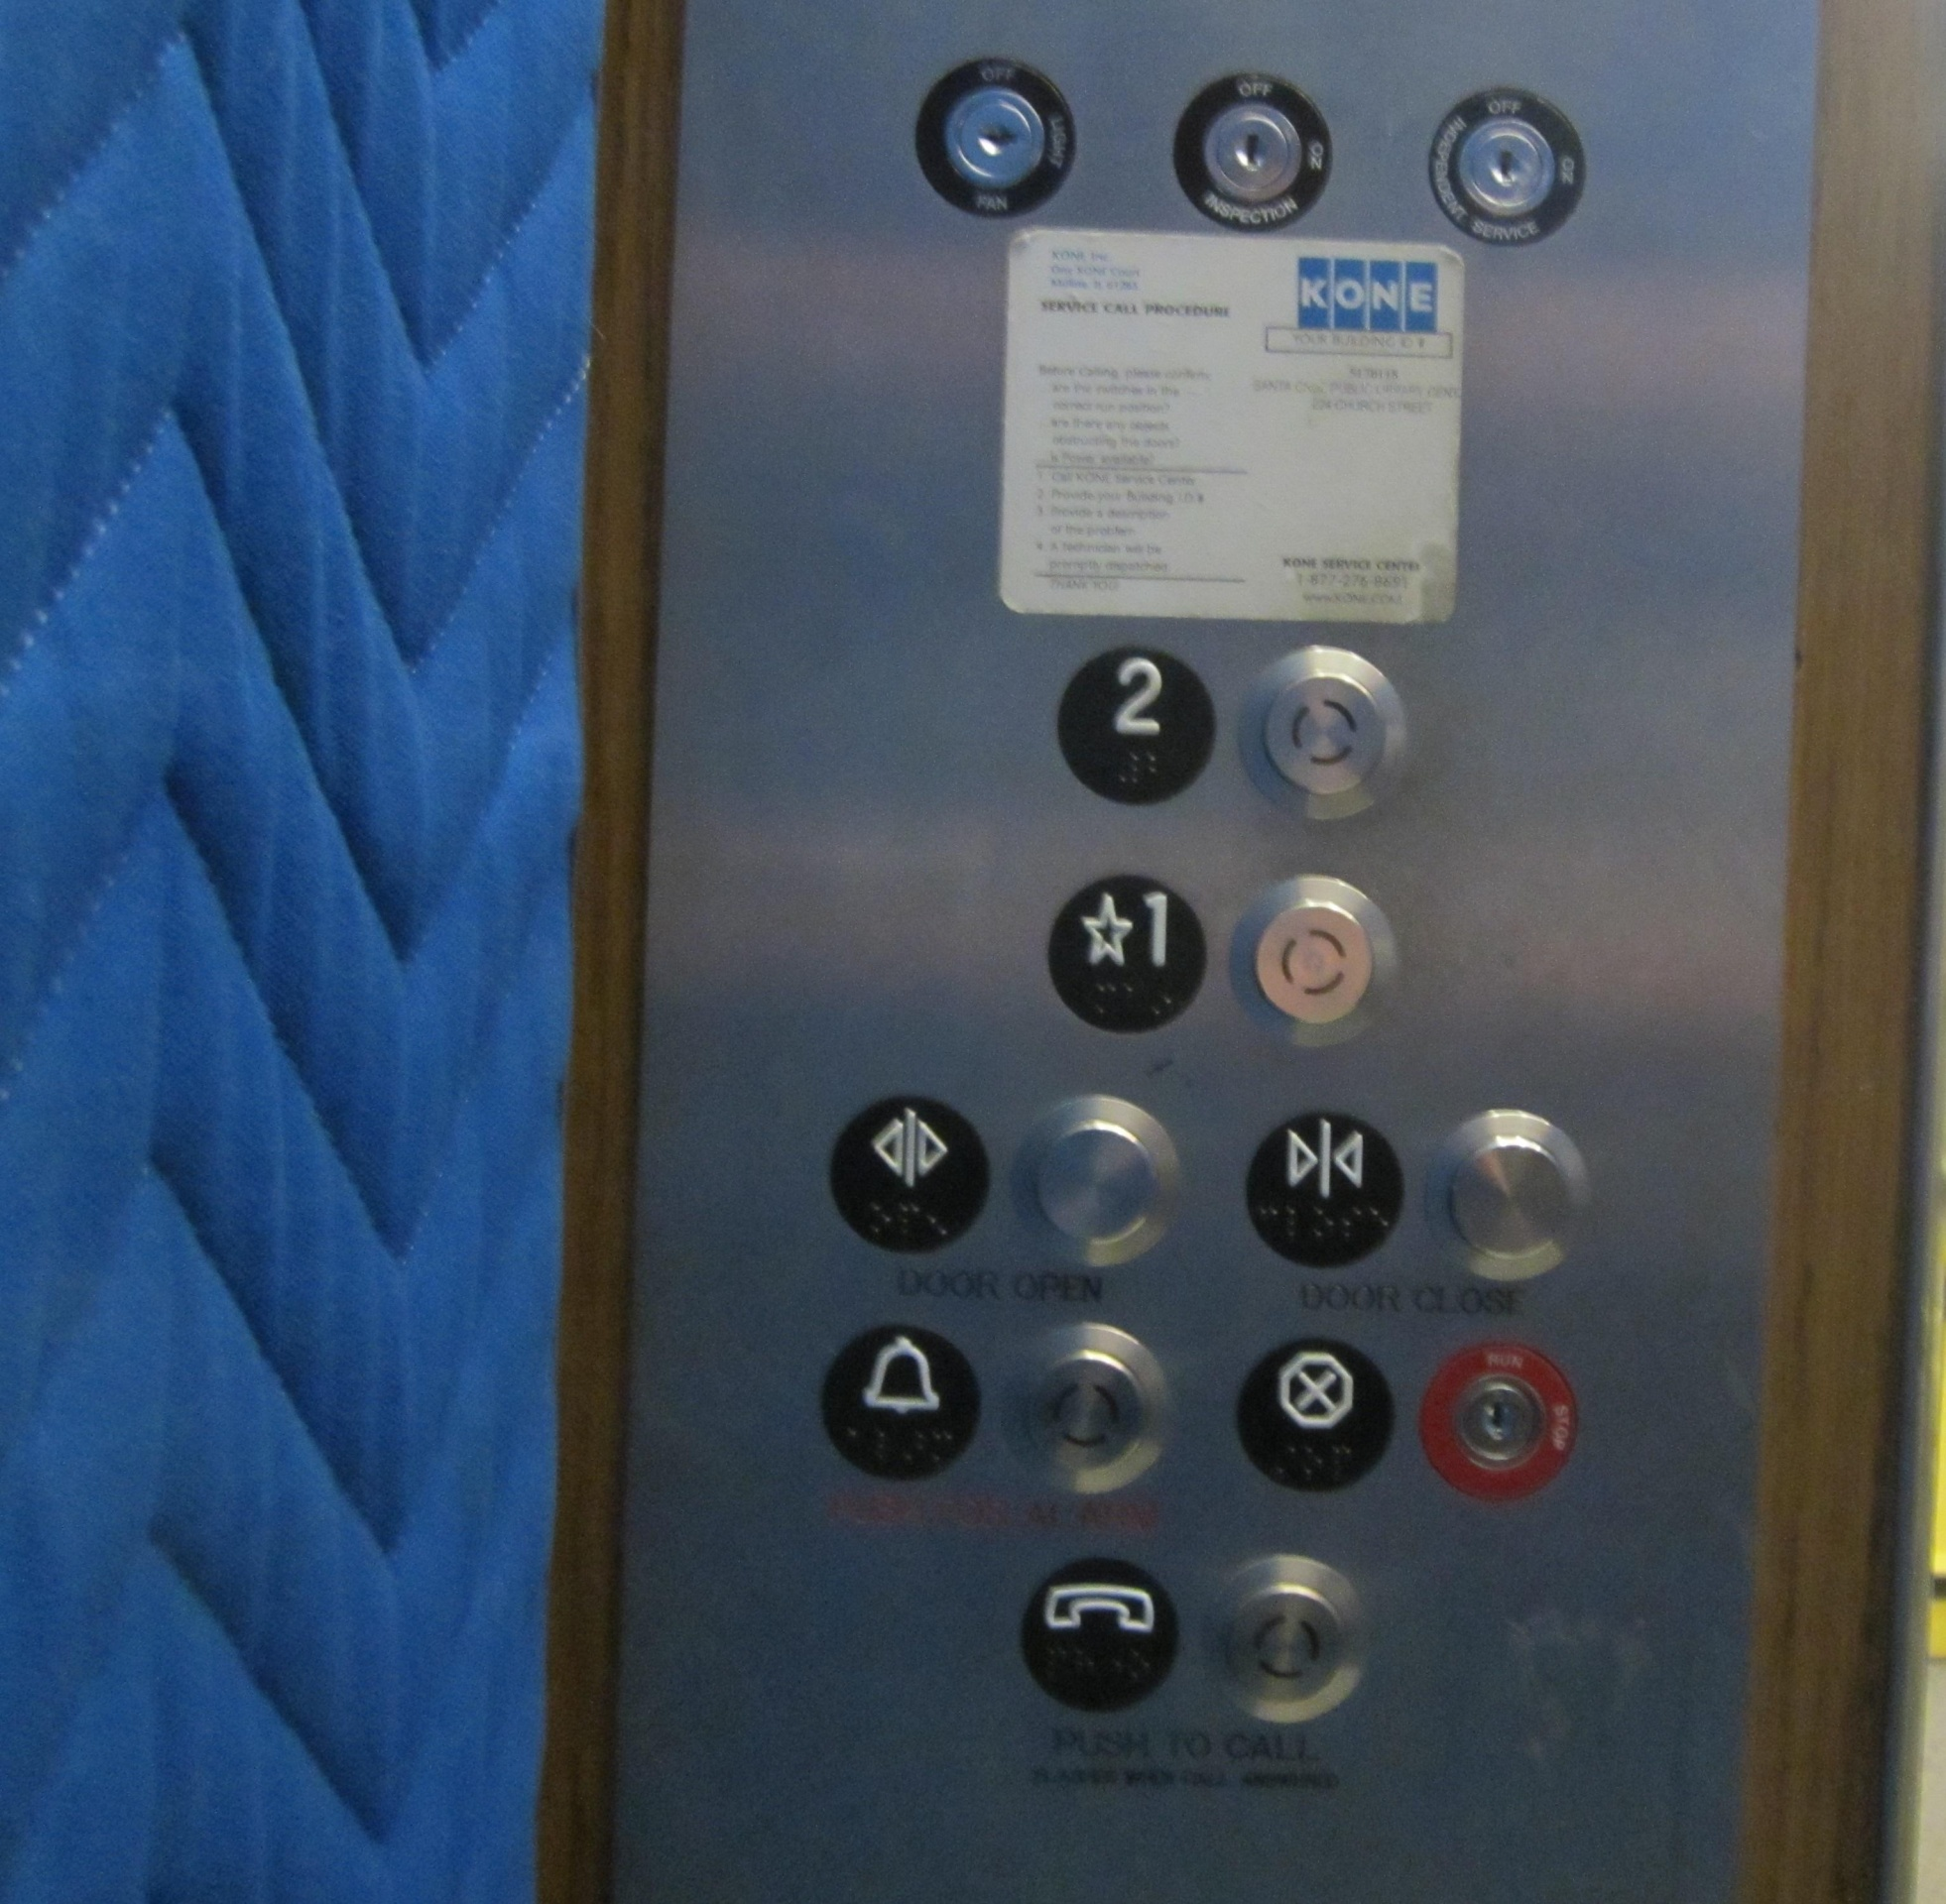2: (1046, 642, 1222, 813)
alarm: (807, 1309, 1003, 1496)
call: (1011, 1541, 1194, 1724)
close: (1229, 1105, 1428, 1285)
empty: (1222, 851, 1428, 1058), (1414, 1085, 1613, 1297), (992, 1069, 1201, 1266), (1229, 640, 1430, 835), (992, 1309, 1186, 1512), (1194, 1540, 1381, 1740)
keyhole: (1411, 1325, 1594, 1517), (1418, 73, 1604, 258), (896, 45, 1090, 221), (1161, 58, 1343, 234)
open: (816, 1079, 1008, 1264)
s1: (1034, 858, 1215, 1048)
stop: (1231, 1329, 1409, 1505)
